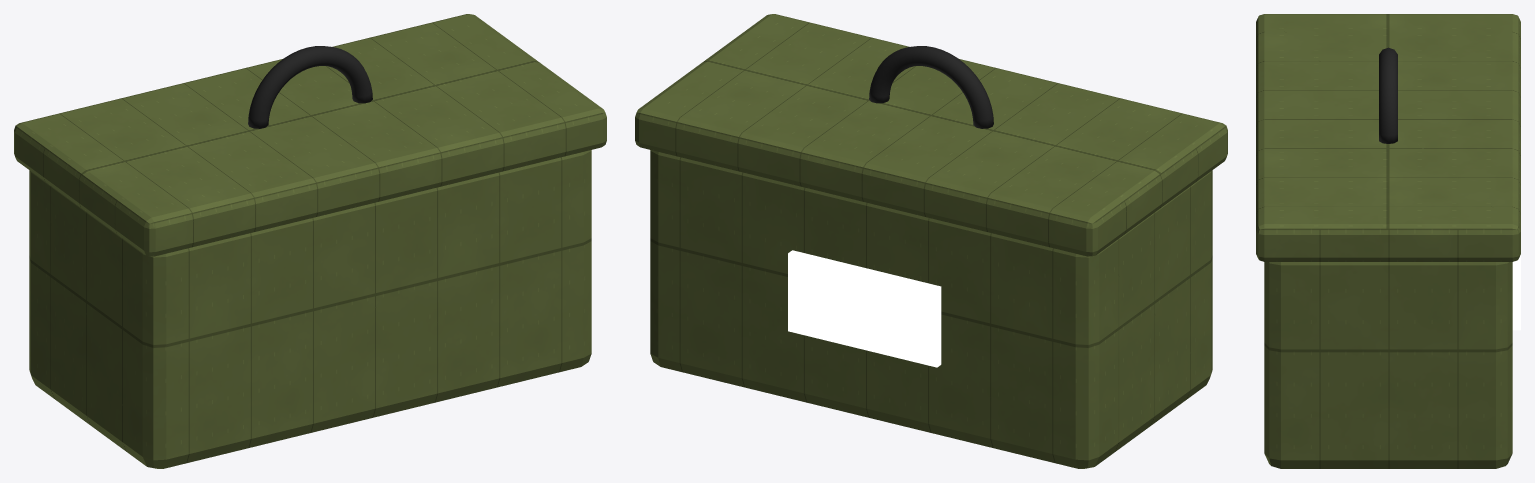
File: env_ammo_box.glb
3 renders of one model, left to right at view 1: azimuth 30°, elevation 25°; view 2: azimuth 150°, elevation 25°; view 3: azimuth 270°, elevation 25°, orthographic. The views are drawn at different scales.
Parts seen in each view (by area): view 1: env_ammo_box; view 2: env_ammo_box; view 3: env_ammo_box.
Boxes of the visible parts, x1=… form: env_ammo_box: x1=14, y1=14, x2=606, y2=468; env_ammo_box: x1=635, y1=14, x2=1227, y2=468; env_ammo_box: x1=1256, y1=14, x2=1520, y2=468.
Size of the model in its own units: 0.62 by 0.422 by 0.32.
Materials: 3 (1 with a texture image).
